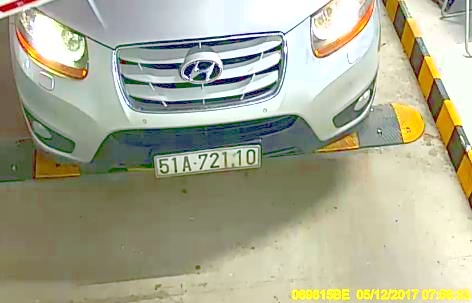plate: (152, 143, 263, 172)
